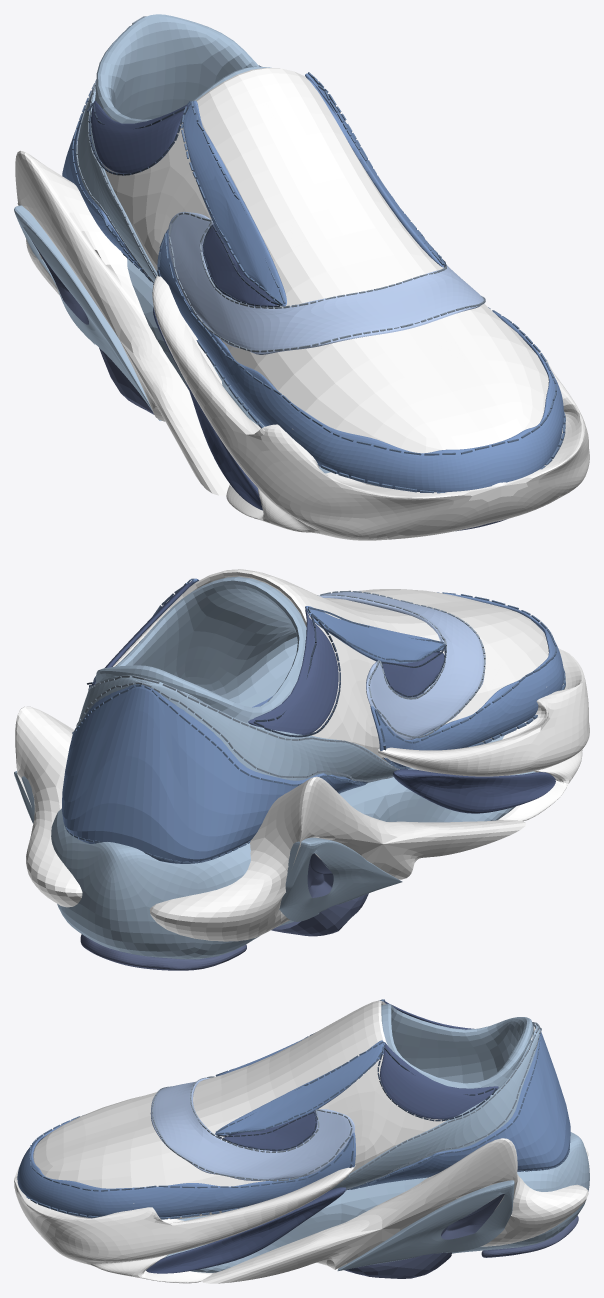
Rendered from waverunner.glb.
3 views of the same model, one above another, from view 1: azimuth 30°, elevation 25°; view 2: azimuth 150°, elevation 25°; view 3: azimuth 270°, elevation 25° (orthographic). The views are drawn at different scales.
Parts seen in each view (by area): view 1: upper, option 2 tri, BACK AREA.001, 2upper trim, inner uper, BUBBLE, option 2 drop, BACK AREA.002, 2upper trim stitch, blue, OPTION 2 DROP INSIDE, bubble stitch; view 2: option 2 tri, BACK AREA.001, inner uper, option 2 drop, upper, 2upper trim, BUBBLE, blue, OPTION 2 DROP INSIDE, BACK AREA.002, 2upper trim stitch, bubble stitch; view 3: option 2 tri, upper, BACK AREA.001, inner uper, option 2 drop, 2upper trim, BUBBLE, blue, OPTION 2 DROP INSIDE, BACK AREA.002, 2upper trim stitch, bubble stitch.
Boxes of the visible parts, x1=… form: upper: x1=102, y1=67, x2=548, y2=488; option 2 tri: x1=15, y1=150, x2=589, y2=540; BACK AREA.001: x1=62, y1=73, x2=563, y2=492; 2upper trim: x1=168, y1=211, x2=483, y2=354; inner uper: x1=76, y1=14, x2=271, y2=282; BUBBLE: x1=91, y1=100, x2=277, y2=307; option 2 drop: x1=14, y1=205, x2=330, y2=473; BACK AREA.002: x1=72, y1=72, x2=565, y2=493; 2upper trim stitch: x1=76, y1=16, x2=485, y2=352; blue: x1=153, y1=307, x2=262, y2=510; OPTION 2 DROP INSIDE: x1=32, y1=241, x2=506, y2=531; bubble stitch: x1=87, y1=65, x2=446, y2=307; option 2 tri: x1=15, y1=648, x2=589, y2=941; BACK AREA.001: x1=62, y1=578, x2=563, y2=863; inner uper: x1=77, y1=576, x2=396, y2=782; option 2 drop: x1=14, y1=735, x2=535, y2=959; upper: x1=113, y1=569, x2=548, y2=769; 2upper trim: x1=319, y1=592, x2=484, y2=739; BUBBLE: x1=91, y1=581, x2=444, y2=734; blue: x1=393, y1=769, x2=555, y2=813; OPTION 2 DROP INSIDE: x1=80, y1=853, x2=368, y2=970; BACK AREA.002: x1=64, y1=578, x2=565, y2=863; 2upper trim stitch: x1=76, y1=590, x2=485, y2=781; bubble stitch: x1=87, y1=583, x2=446, y2=737; option 2 tri: x1=14, y1=1138, x2=588, y2=1283; upper: x1=33, y1=1000, x2=535, y2=1219; BACK AREA.001: x1=17, y1=1000, x2=570, y2=1218; inner uper: x1=329, y1=1004, x2=539, y2=1190; option 2 drop: x1=164, y1=1132, x2=589, y2=1272; 2upper trim: x1=150, y1=1078, x2=354, y2=1180; BUBBLE: x1=222, y1=1001, x2=498, y2=1151; blue: x1=146, y1=1187, x2=345, y2=1273; OPTION 2 DROP INSIDE: x1=344, y1=1194, x2=578, y2=1278; BACK AREA.002: x1=26, y1=999, x2=569, y2=1219; 2upper trim stitch: x1=152, y1=1022, x2=541, y2=1189; bubble stitch: x1=217, y1=1005, x2=496, y2=1150.
Bounding box in the file's own units: 1.82 × 1.81 × 3.94.
